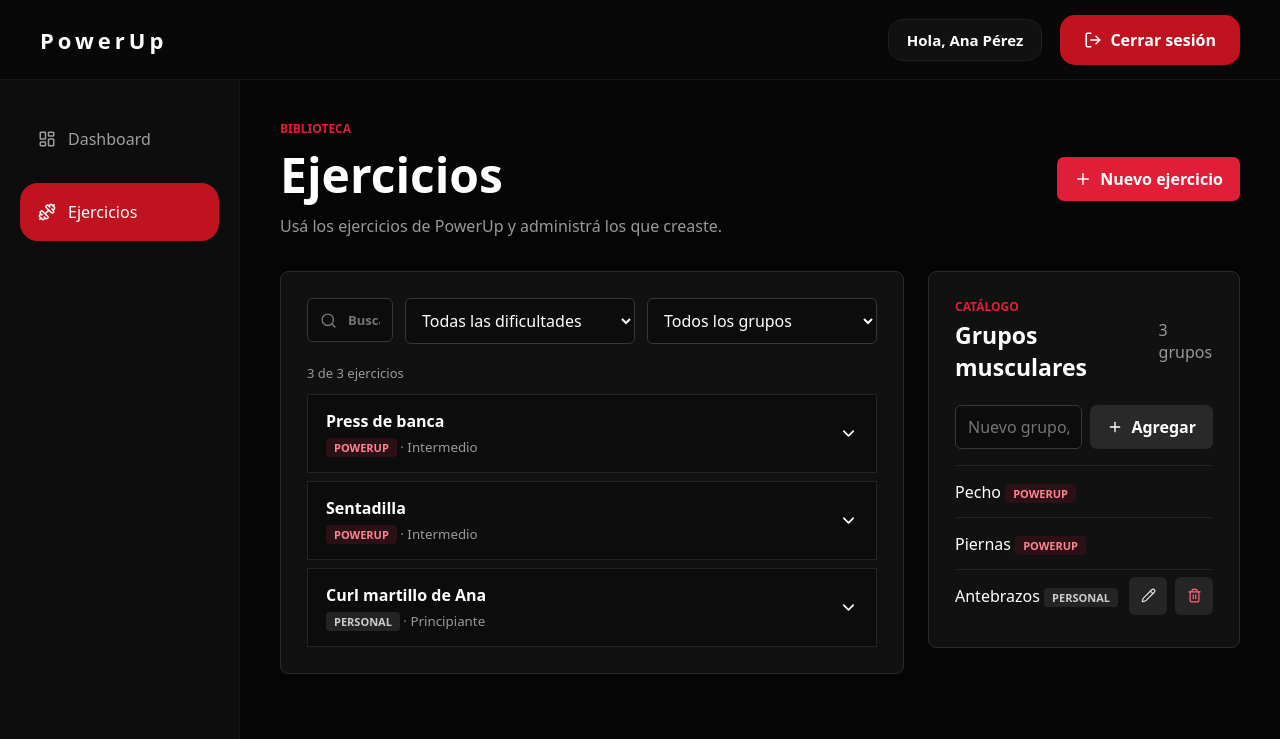
it: catálogo de ejercicios › muestra el motivo cuando no se puede borrar un ejercicio con historial
The width and height of the screenshot is (1280, 739).
What coordinates should you click on to do the following:
click the button "Curl martillo de Ana Personal · Principiante"
I would click on:
 (406, 595)
Its box is x1=308 y1=569 x2=876 y2=646.
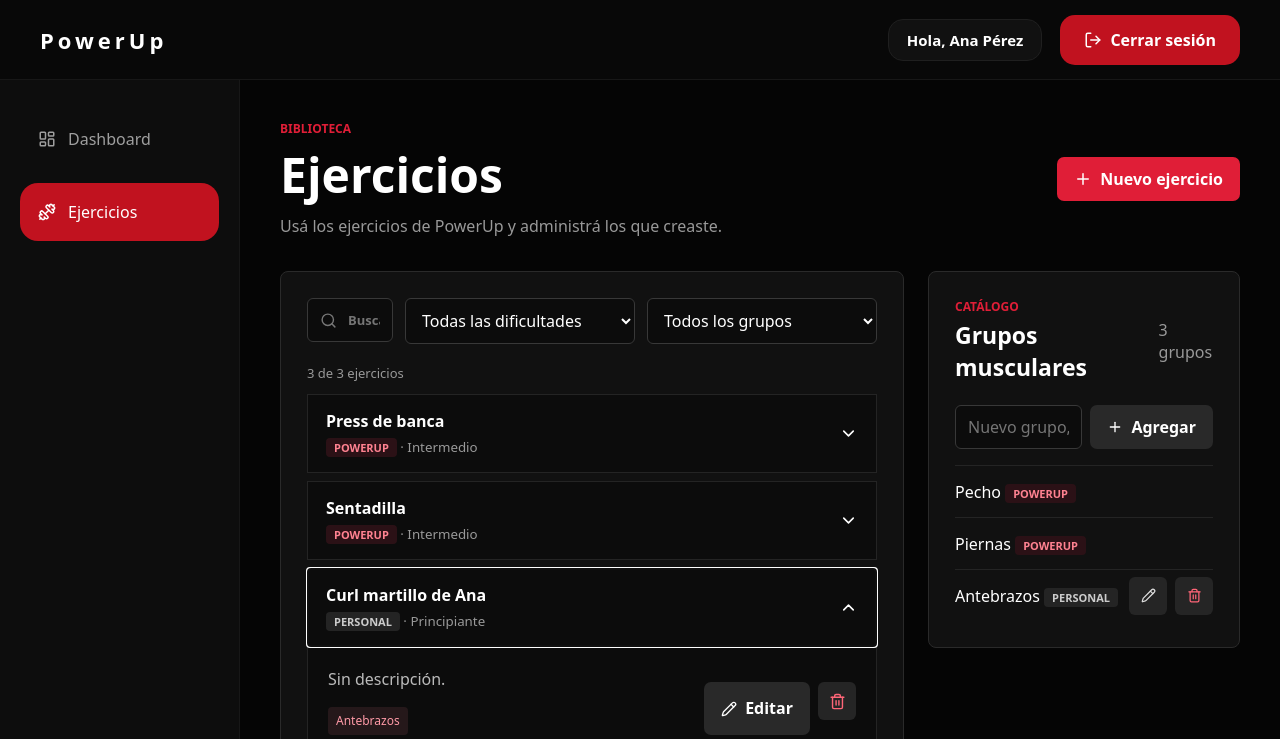
What coordinates should you click on to do the following:
click the button named "Eliminar Curl martillo de Ana"
I would click on:
 (837, 701)
Its box is x1=818 y1=682 x2=856 y2=720.
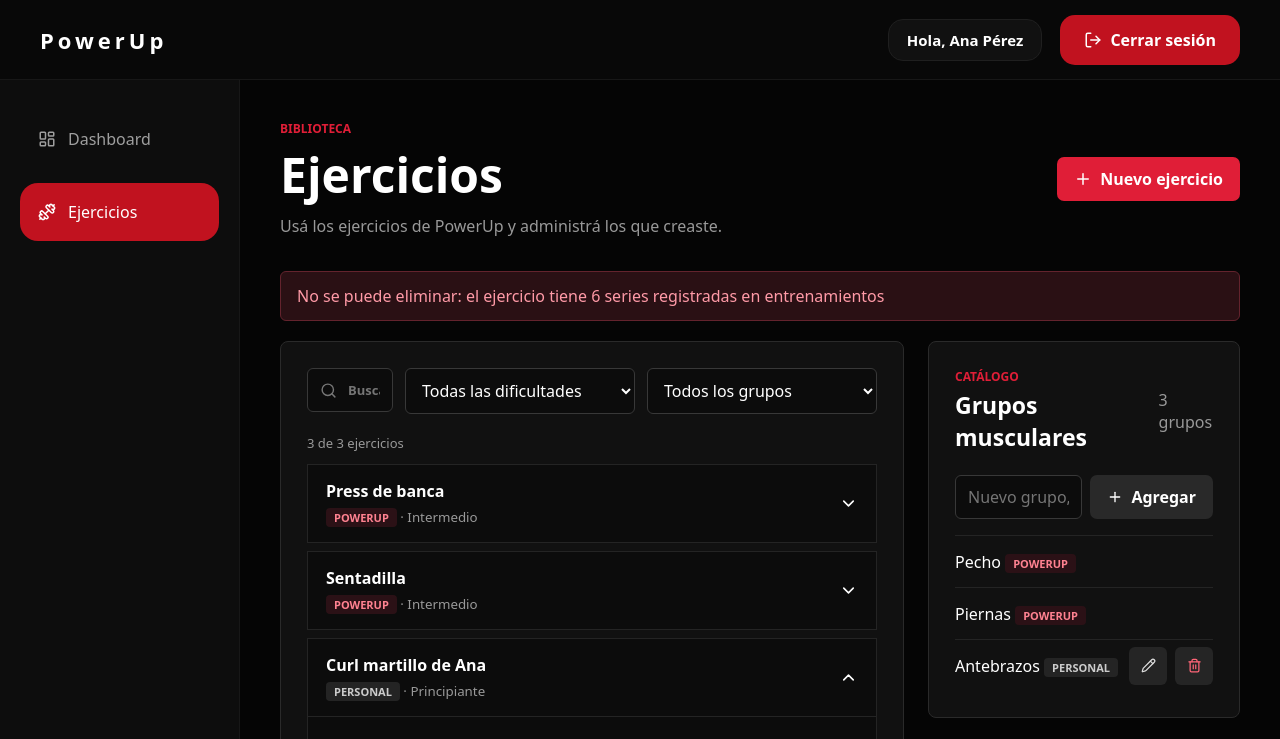
Check: the button "Curl martillo de Ana Personal · Principiante" is shown, box x1=308 y1=639 x2=876 y2=716
Check: the message shows "6 series registradas", box x1=297 y1=285 x2=884 y2=307
